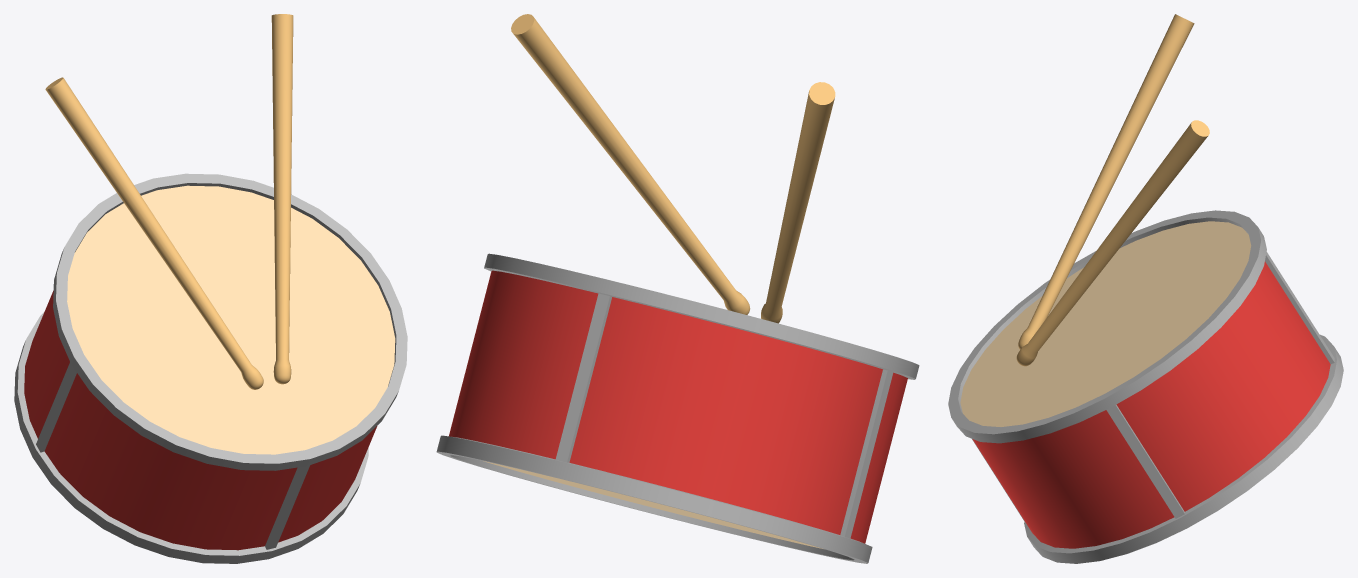
File: drum.glb
3 renders of one model, left to right at view 1: azimuth 30°, elevation 25°; view 2: azimuth 150°, elevation 25°; view 3: azimuth 270°, elevation 25°, orthographic. The views are drawn at different scales.
Visible parts, largest first — view 1: Cylinder.495; view 2: Cylinder.495; view 3: Cylinder.495.
Boxes of the visible parts, left/top/right/bottom form: Cylinder.495: left=14, top=14, right=407, bottom=563; Cylinder.495: left=436, top=14, right=919, bottom=563; Cylinder.495: left=948, top=14, right=1343, bottom=563.
Bounding box in the file's own units: 1.57 × 2.2 × 1.72.
Materials: 1 (1 with a texture image).
